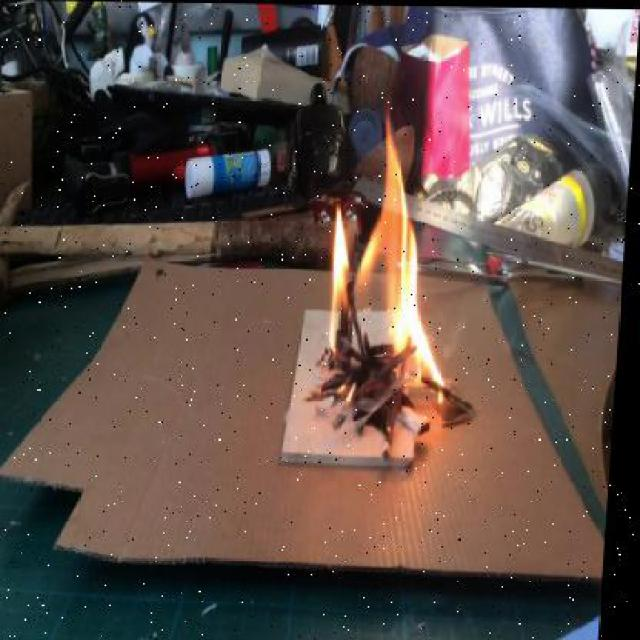fire: (294, 114, 490, 440)
